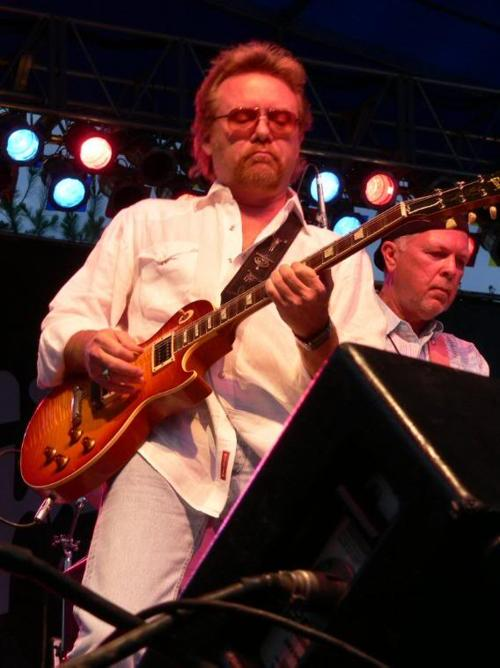person: (37, 44, 386, 666)
